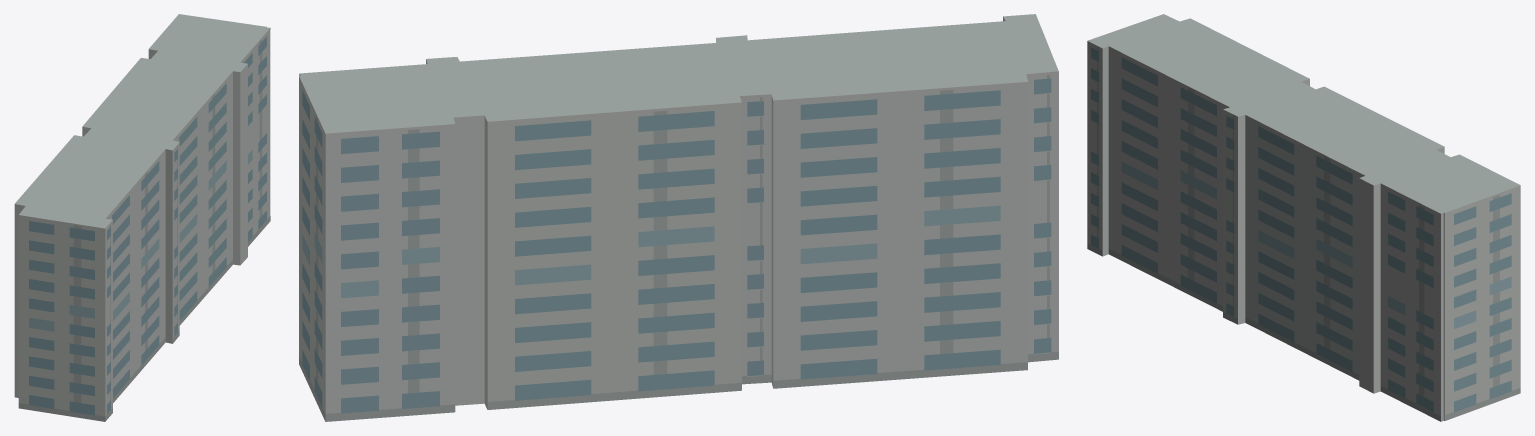
Rendered from survey-upis-32800700.glb.
3 views of the same model, side by side, from view 1: azimuth 30°, elevation 25°; view 2: azimuth 150°, elevation 25°; view 3: azimuth 270°, elevation 25° (orthographic). The views are drawn at different scales.
Visible parts, largest first — view 1: survey-upis-32800700.tmp; view 2: survey-upis-32800700.tmp; view 3: survey-upis-32800700.tmp.
Part boxes in pixels (x1,y1,x2,y2): survey-upis-32800700.tmp: (14, 14, 270, 421); survey-upis-32800700.tmp: (299, 14, 1058, 421); survey-upis-32800700.tmp: (1087, 14, 1520, 421).
Size of the model in its own units: 57.72 by 28.02 by 52.9.
